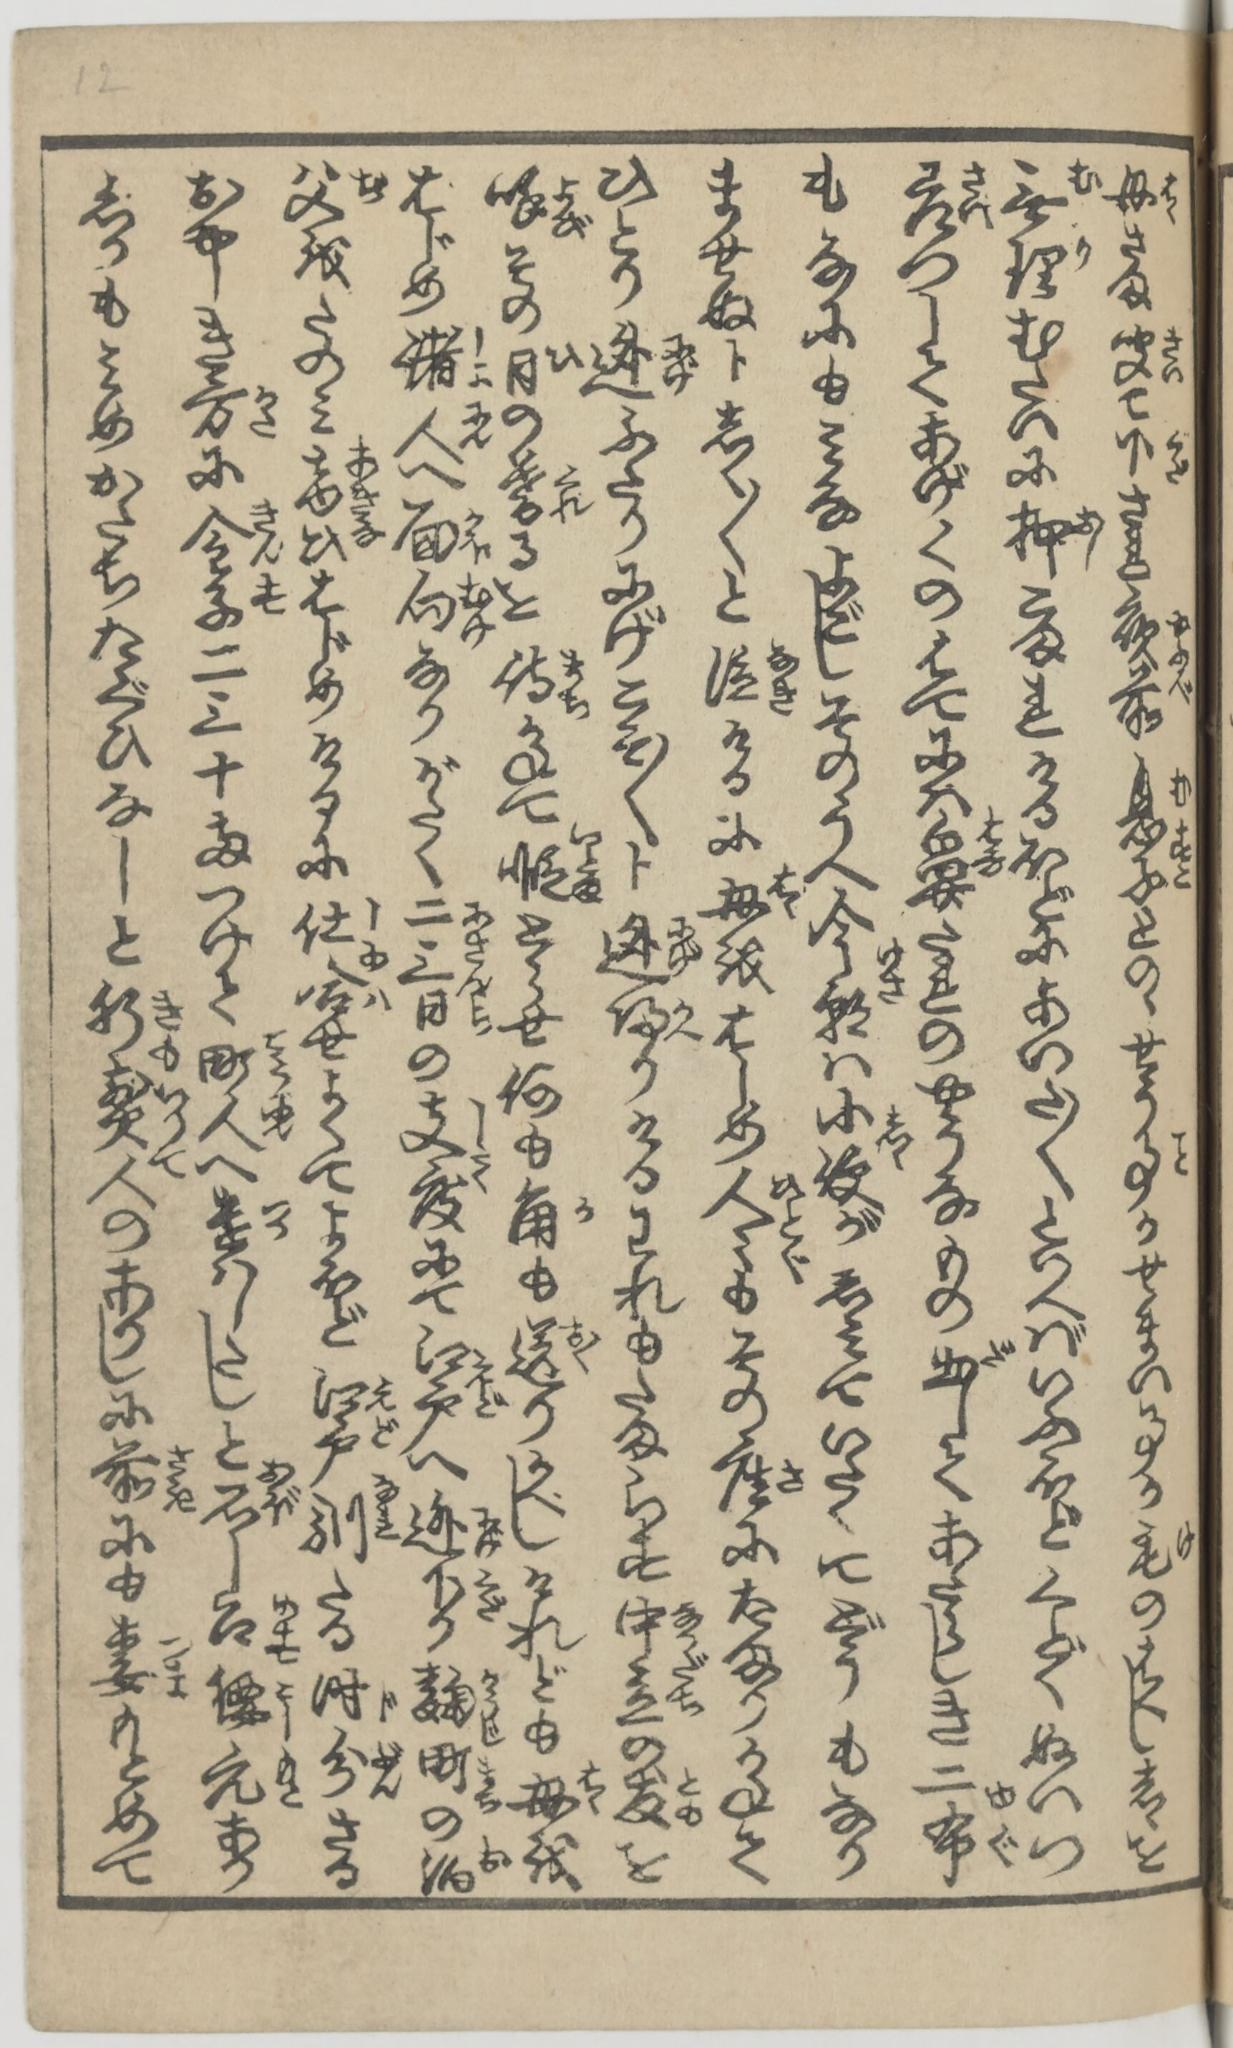MainZone-Character: (793, 927, 919, 1049), (802, 1078, 926, 1186), (89, 1071, 190, 1188), (291, 430, 383, 557), (78, 976, 190, 1080), (300, 1473, 402, 1577), (584, 316, 701, 407), (85, 1614, 199, 1706), (304, 1362, 401, 1467), (197, 1447, 297, 1545), (494, 824, 613, 906), (477, 157, 589, 238), (916, 809, 1006, 910), (288, 892, 392, 980), (279, 157, 393, 236), (494, 448, 600, 532), (916, 1808, 1022, 1891), (196, 1735, 304, 1817), (85, 1438, 200, 1514), (921, 1336, 1018, 1426), (186, 496, 293, 578), (998, 157, 1103, 237), (388, 493, 499, 569), (392, 568, 496, 648), (402, 1381, 512, 1457), (1116, 756, 1198, 857), (398, 1151, 499, 1233), (491, 642, 597, 720), (698, 1163, 810, 1235), (897, 152, 995, 234), (206, 1586, 306, 1666), (699, 638, 800, 717), (597, 910, 704, 985), (502, 1176, 598, 1258), (410, 1665, 508, 1745), (386, 320, 491, 394), (502, 1315, 603, 1391), (407, 1485, 508, 1561), (1005, 499, 1103, 576), (197, 1186, 295, 1264), (1112, 582, 1201, 667), (1101, 666, 1202, 739), (293, 954, 396, 1024), (705, 865, 804, 938), (711, 1450, 809, 1523), (614, 1665, 718, 1733), (610, 1599, 718, 1665), (202, 1663, 300, 1735), (396, 929, 503, 993), (412, 1834, 513, 1902), (190, 1028, 291, 1096), (510, 1757, 607, 1827), (317, 1729, 408, 1804), (410, 1556, 512, 1622), (389, 398, 493, 462), (180, 376, 284, 439), (1117, 1128, 1194, 1213), (603, 985, 705, 1047), (1000, 237, 1097, 303), (414, 1747, 505, 1815), (395, 1093, 499, 1151), (187, 572, 291, 630), (199, 1097, 301, 1154), (496, 339, 582, 407), (916, 1755, 1018, 1811), (312, 1665, 401, 1725), (410, 1325, 499, 1385), (712, 1235, 819, 1284), (1110, 320, 1186, 386), (1110, 427, 1195, 486), (1126, 1516, 1196, 1584), (404, 992, 500, 1039), (1113, 161, 1185, 224), (1115, 857, 1199, 906), (613, 1795, 702, 1833), (404, 897, 496, 933), (617, 1761, 704, 1796)
MainZone-Ruby: (143, 1074, 190, 1178), (341, 434, 380, 551), (548, 458, 597, 527), (872, 1097, 917, 1170), (149, 985, 186, 1074), (566, 822, 607, 901), (257, 1457, 298, 1530), (456, 566, 493, 648), (474, 1663, 508, 1748), (768, 1167, 812, 1232), (556, 647, 594, 720), (658, 326, 698, 396), (547, 168, 588, 236), (366, 1736, 407, 1804), (875, 933, 911, 1006), (161, 1441, 199, 1511), (765, 638, 799, 717), (247, 499, 287, 566), (1166, 759, 1192, 857), (955, 157, 992, 225), (366, 1372, 396, 1453), (974, 809, 1008, 882), (670, 1602, 711, 1662), (367, 1475, 402, 1543), (360, 898, 391, 974), (563, 1315, 601, 1375), (256, 1094, 300, 1145), (456, 503, 493, 565), (766, 865, 804, 922), (268, 1592, 298, 1662), (667, 1668, 711, 1716), (470, 1497, 505, 1556), (249, 571, 290, 622), (158, 1624, 187, 1695), (471, 1564, 508, 1621), (268, 1738, 300, 1802), (472, 1748, 503, 1815), (665, 916, 699, 977), (259, 1192, 297, 1246), (987, 1815, 1022, 1872), (468, 322, 496, 394), (664, 993, 702, 1043), (259, 1028, 291, 1087), (351, 164, 391, 211), (461, 398, 494, 452), (461, 933, 491, 992), (1076, 497, 1101, 569), (462, 1091, 493, 1148), (272, 1676, 300, 1739), (247, 379, 279, 433), (576, 1758, 606, 1817), (780, 1235, 815, 1283), (478, 1831, 513, 1878), (1163, 429, 1191, 486), (1164, 604, 1191, 663), (777, 1448, 806, 1499), (467, 1147, 496, 1198), (976, 1336, 1018, 1371), (543, 339, 584, 374), (472, 1384, 506, 1426), (1158, 165, 1182, 222), (1158, 325, 1182, 382), (980, 1773, 1018, 1808), (355, 985, 396, 1017), (1068, 157, 1101, 195), (464, 998, 494, 1037), (1170, 1129, 1194, 1179), (673, 1760, 705, 1795), (468, 1340, 494, 1382), (372, 1681, 398, 1723), (461, 901, 497, 929), (673, 1798, 704, 1830), (572, 1195, 598, 1232), (1166, 669, 1192, 699), (1169, 859, 1195, 889), (1174, 1518, 1194, 1561), (1074, 236, 1094, 272)
